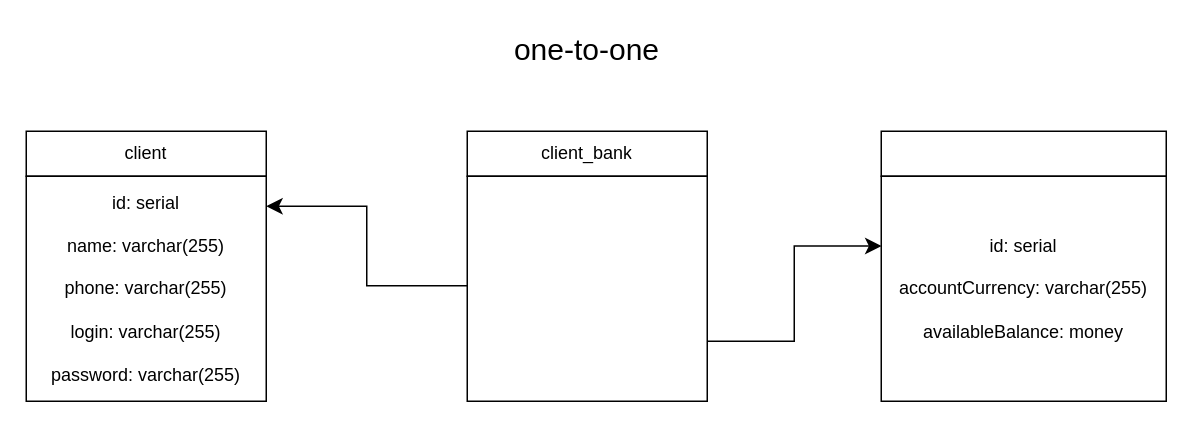
Some shapes in this 1193 by 428 pixel diagram are drawn without their labels. Each missing label, with the centre of its shape:
"id: serial client_id: int internetBank_id: int" belongs at point 586,288.
"InternetBank" belongs at point 1023,153.
